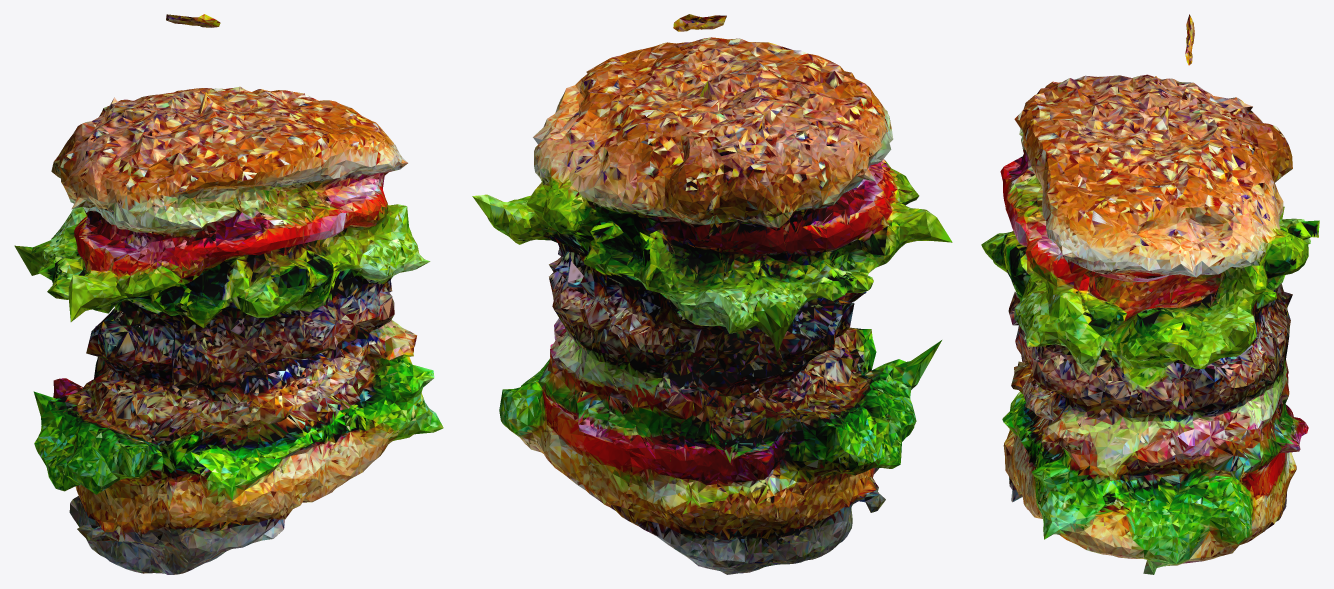
Rendered from large_hamburger-depth.glb.
The picture shows the model from 3 angles, left to right: view 1: azimuth 30°, elevation 25°; view 2: azimuth 150°, elevation 25°; view 3: azimuth 270°, elevation 25°; orthographic projection. The views are drawn at different scales.
Parts seen in each view (by area): view 1: extracted_mesh; view 2: extracted_mesh; view 3: extracted_mesh.
Part boxes in pixels (x1,y1,x2,y2): extracted_mesh: (14,14,443,574); extracted_mesh: (472,14,952,574); extracted_mesh: (981,14,1319,574).
Bounding box in the file's own units: 0.7134 × 0.9389 × 0.5429.
Materials: 1 (1 with a texture image).
